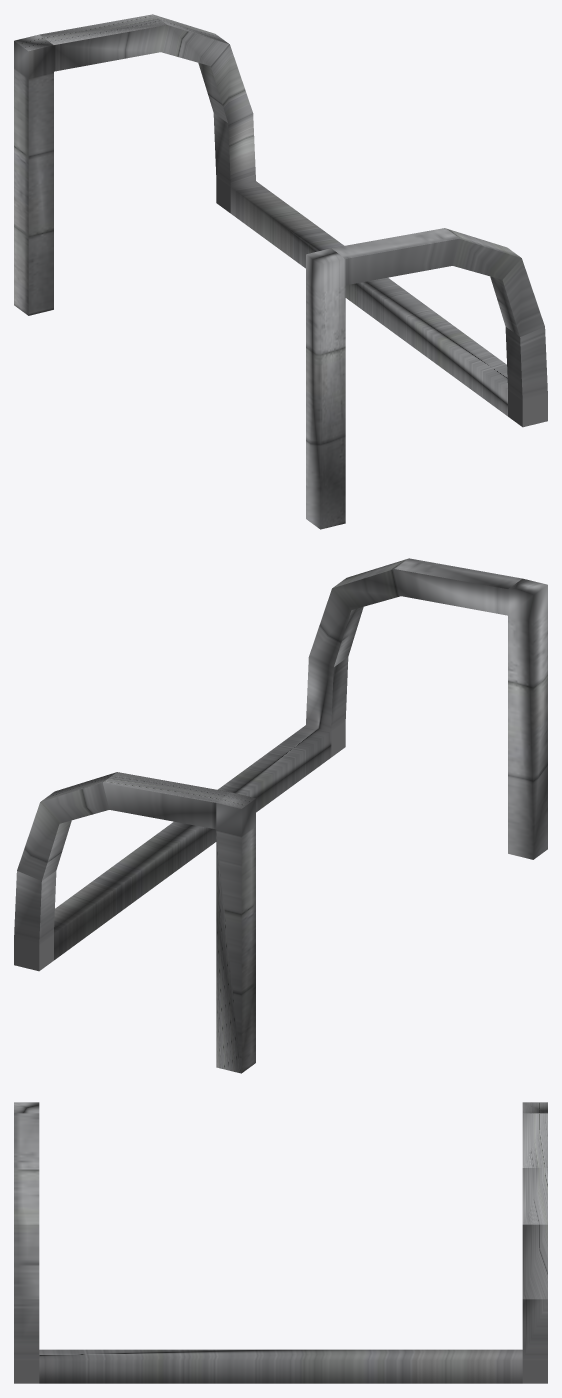
File: Leader2.fbx
3 views of the same model, one above another, from view 1: azimuth 30°, elevation 25°; view 2: azimuth 150°, elevation 25°; view 3: azimuth 270°, elevation 25° (orthographic). The views are drawn at different scales.
Parts seen in each view (by area): view 1: Cube.002; view 2: Cube.002; view 3: Cube.002.
Part boxes in pixels (x1,y1,x2,y2): Cube.002: (14,14,547,529); Cube.002: (14,558,547,1073); Cube.002: (14,1102,547,1383).
Size of the model in its own units: 22.5 by 25 by 52.5.
